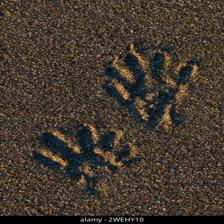raccoon: (104, 40, 195, 130), (25, 122, 133, 184)
